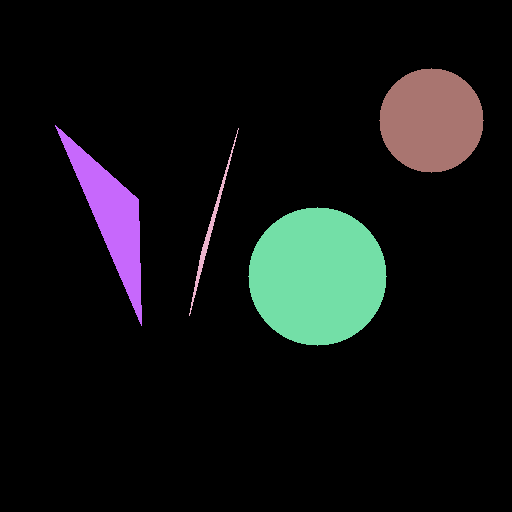circle: (248, 207, 386, 345), (379, 68, 483, 172)
triangle: (55, 125, 141, 325)
